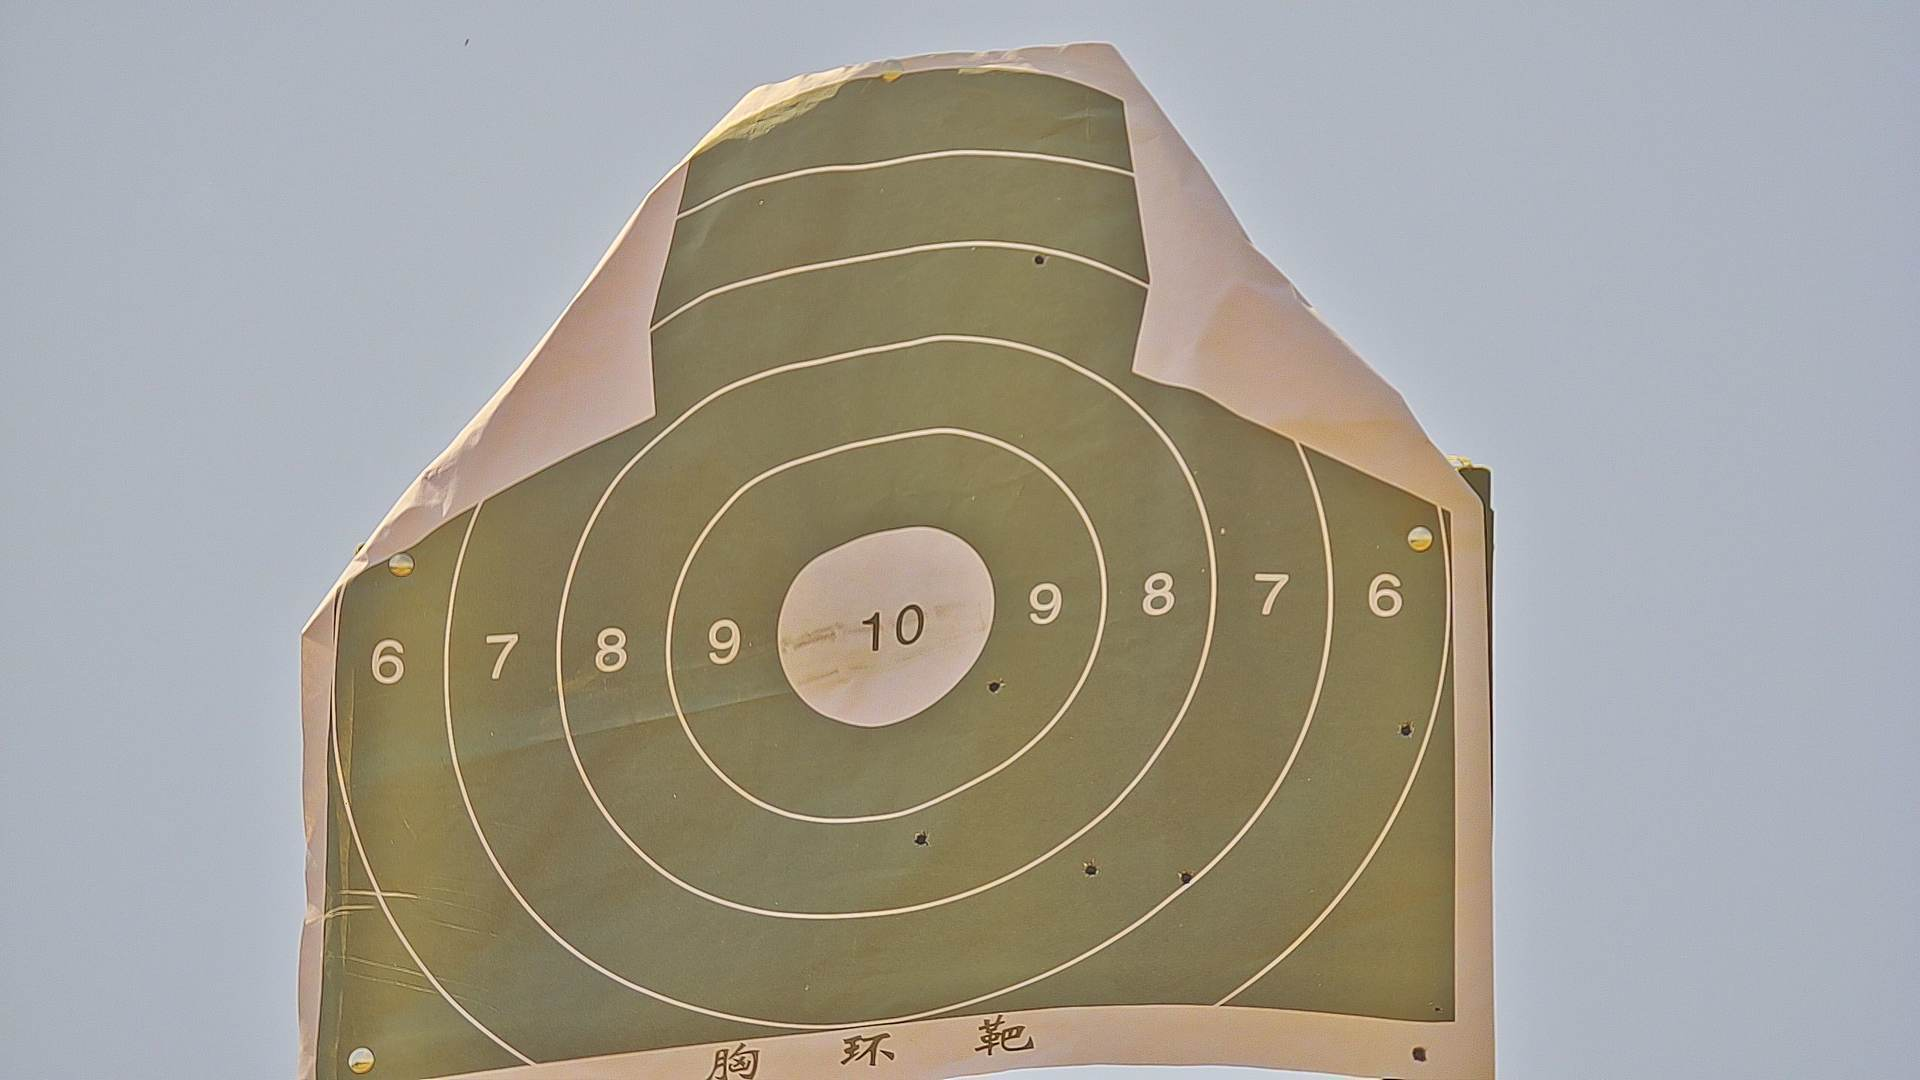hole: (1081, 856, 1101, 880), (911, 827, 934, 847), (1398, 720, 1416, 741), (985, 676, 1005, 695), (1179, 866, 1195, 886), (1031, 251, 1047, 268)
kernel: (884, 626, 890, 634)
target: (327, 67, 1453, 1069)
ten: (773, 527, 993, 731)
